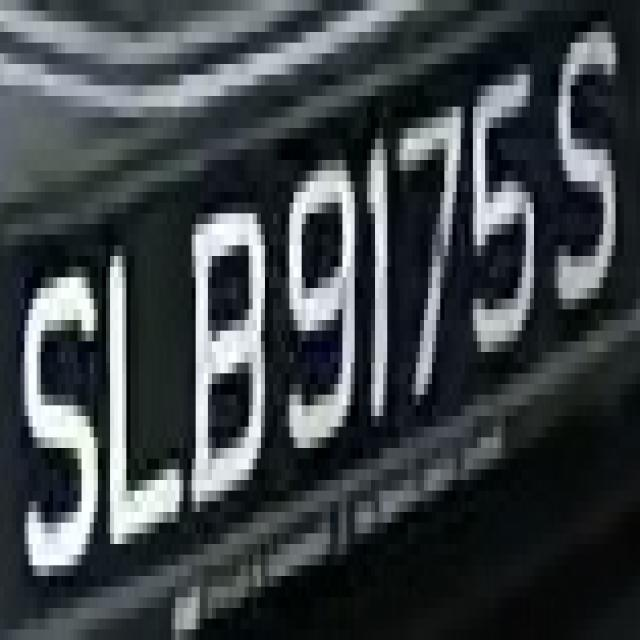1: (367, 128, 399, 437)
5: (465, 64, 546, 373)
7: (383, 96, 473, 437)
9: (277, 160, 367, 459)
B: (179, 224, 269, 533)
L: (102, 224, 196, 565)
S: (25, 245, 110, 608), (550, 21, 632, 331)
